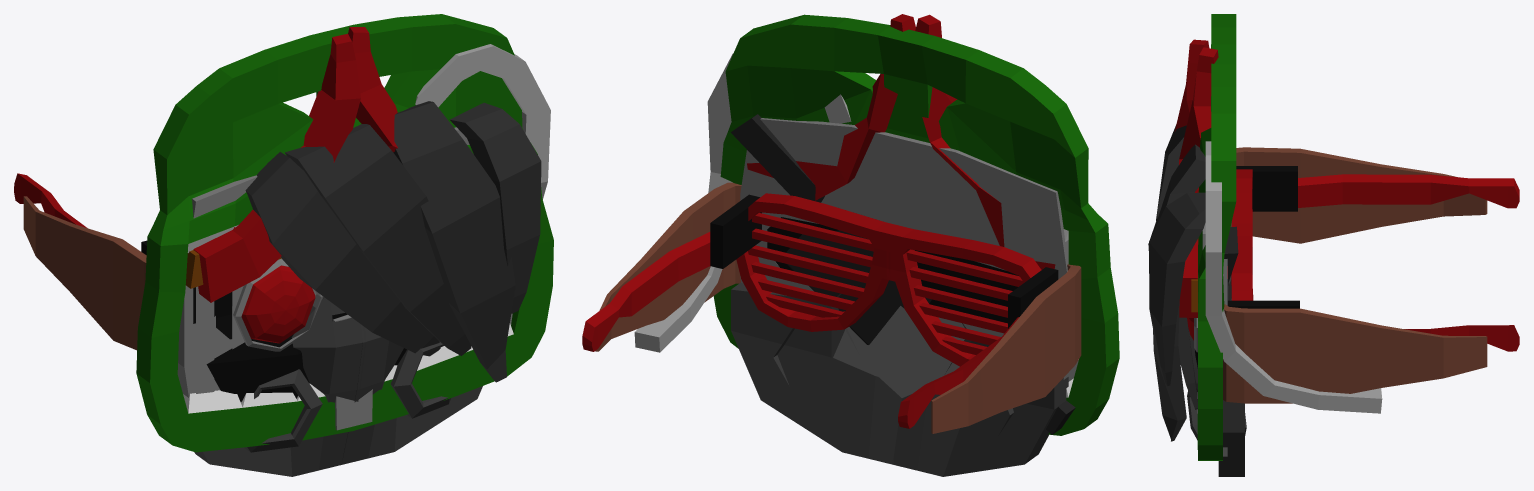
File: masks.fbx
3 views of the same model, side by side, from view 1: azimuth 30°, elevation 25°; view 2: azimuth 150°, elevation 25°; view 3: azimuth 270°, elevation 25° (orthographic). The views are drawn at different scales.
Visible parts, largest first — view 1: mask_emo, mask_dragon, mask_facemask, mask_horn, mask_dalekohled, mask_demonhunter, mask_vineta, mask_1Sch, mask_mrizka, mask_party; view 2: mask_dragon, mask_party, mask_1Sch, mask_facemask, mask_demonhunter, mask_horn, mask_pirate, mask_dalekohled, mask_vineta; view 3: mask_demonhunter, mask_emo, mask_party, mask_dragon, mask_vineta, mask_horn, mask_dalekohled, mask_facemask, mask_pirate.
Boxes of the visible parts, bbox=[...] form: mask_emo: bbox=[245, 101, 541, 382]; mask_dragon: bbox=[136, 14, 553, 452]; mask_facemask: bbox=[194, 297, 482, 476]; mask_horn: bbox=[185, 27, 397, 302]; mask_dalekohled: bbox=[141, 240, 406, 401]; mask_demonhunter: bbox=[23, 196, 146, 350]; mask_vineta: bbox=[415, 44, 550, 199]; mask_1Sch: bbox=[177, 127, 512, 430]; mask_mrizka: bbox=[196, 265, 316, 403]; mask_party: bbox=[14, 173, 86, 227]; mask_dragon: bbox=[713, 14, 1119, 435]; mask_party: bbox=[582, 193, 1041, 428]; mask_1Sch: bbox=[740, 118, 1078, 397]; mask_facemask: bbox=[731, 282, 1068, 476]; mask_demonhunter: bbox=[595, 182, 1081, 433]; mask_horn: bbox=[747, 14, 1055, 269]; mask_pirate: bbox=[731, 114, 1075, 434]; mask_dalekohled: bbox=[710, 194, 1058, 328]; mask_vineta: bbox=[634, 53, 851, 352]; mask_demonhunter: bbox=[1223, 147, 1487, 403]; mask_emo: bbox=[1148, 125, 1205, 441]; mask_party: bbox=[1231, 169, 1519, 351]; mask_dragon: bbox=[1197, 14, 1236, 460]; mask_vineta: bbox=[1205, 141, 1382, 413]; mask_horn: bbox=[1174, 39, 1227, 317]; mask_dalekohled: bbox=[1187, 166, 1299, 368]; mask_facemask: bbox=[1187, 275, 1246, 476]; mask_pirate: bbox=[1224, 226, 1238, 300].
Size of the model in its own units: 29.48 by 30.42 by 25.55.
